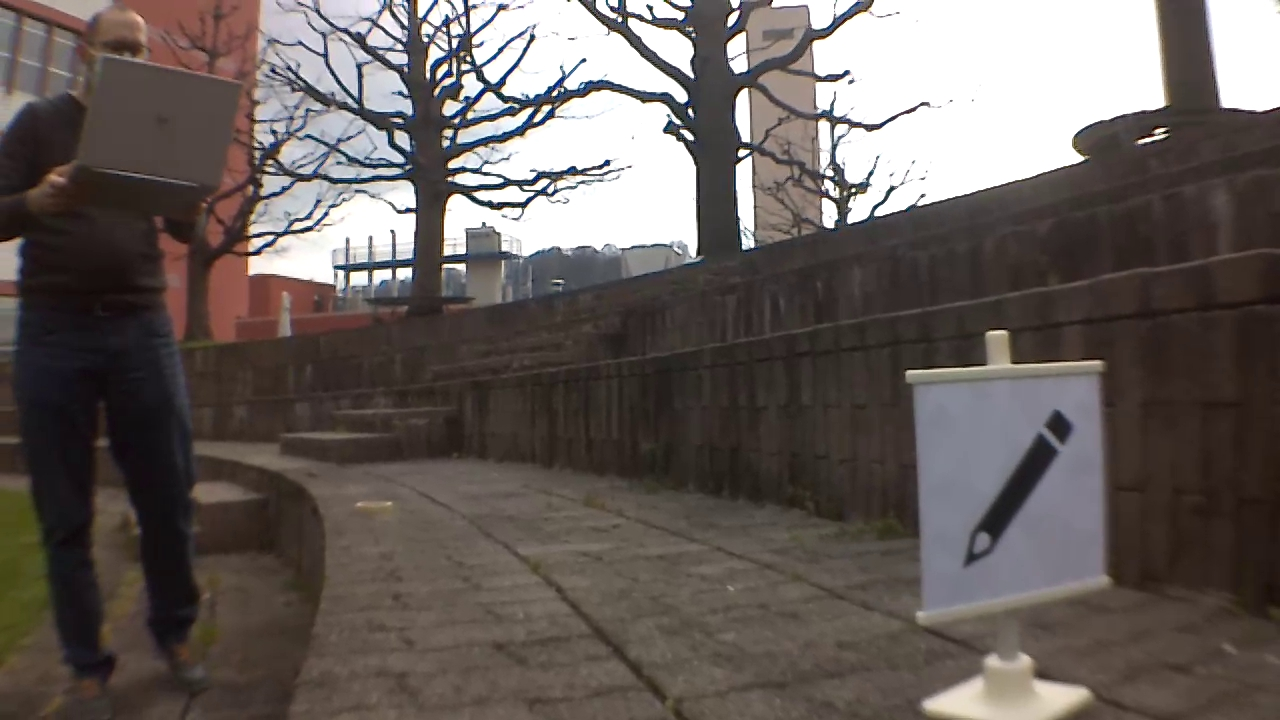pencil: (963, 399, 1077, 564)
